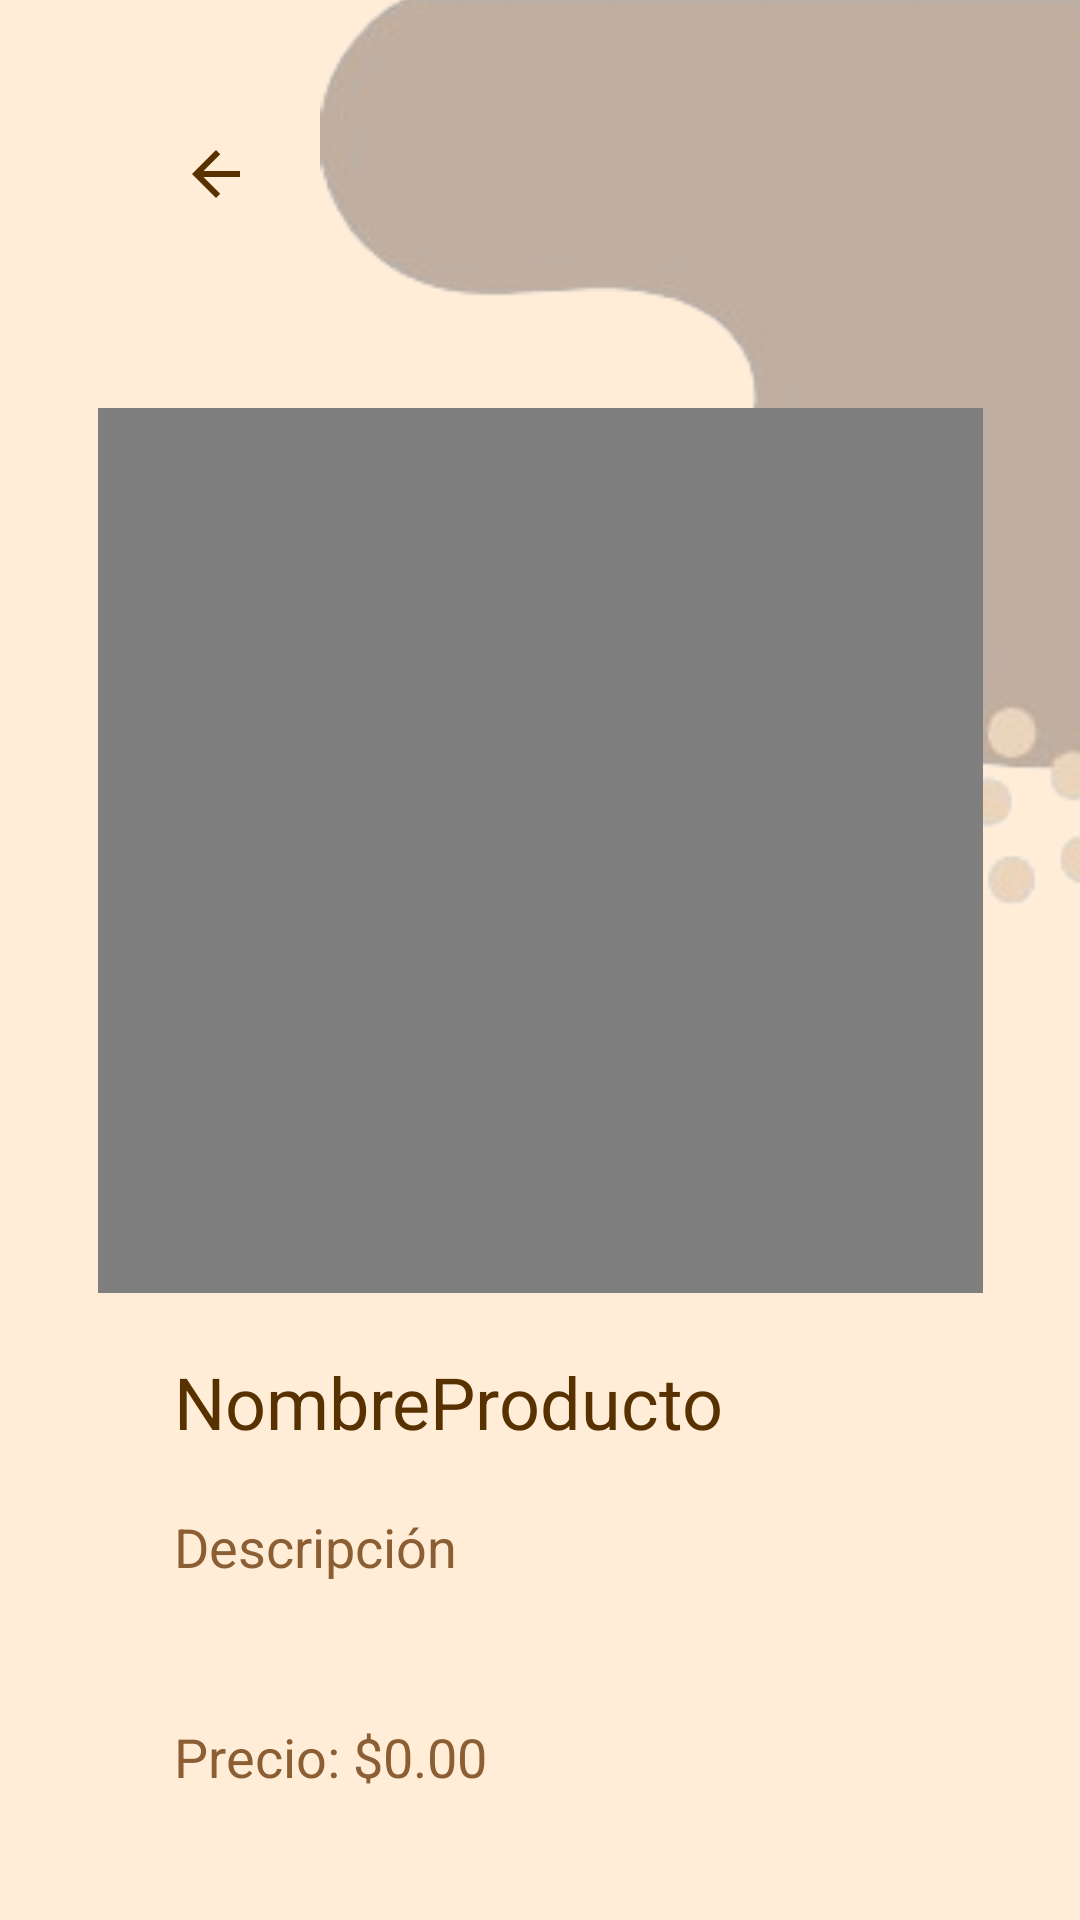

Locate icon controls on the screen. Image size 1080w x 1920h, boxes as bbox=(x1, y1, x2, y2).
arrow back: bbox=(192, 150, 240, 198)
